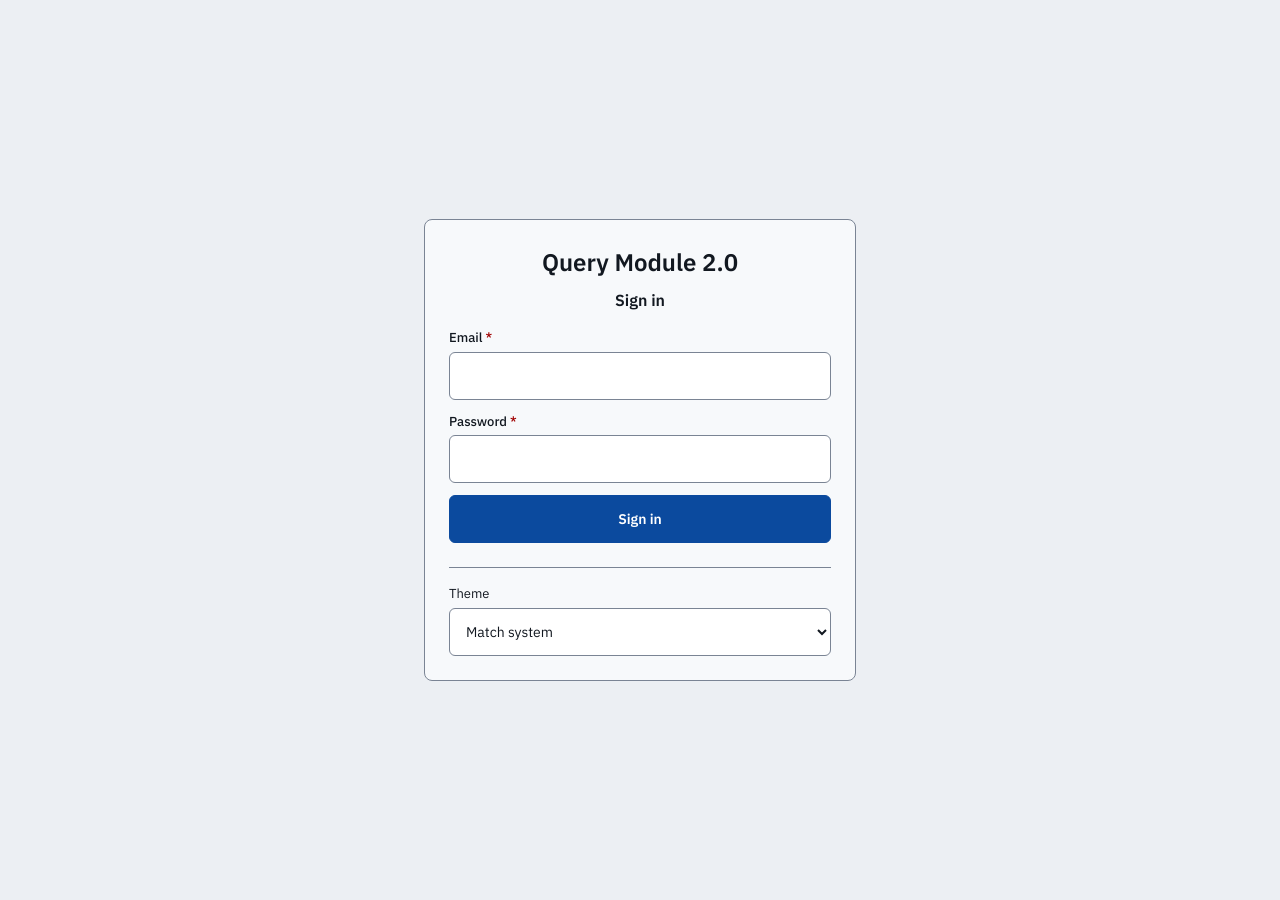
Test: FR-044 AppShell announces one coalesced summary (spec 6.6) › two events in one window give one polite sentence, with no values
In the field labelled "Email *": [640, 376] box [449,352,831,400], type "tester@querymodule.test"
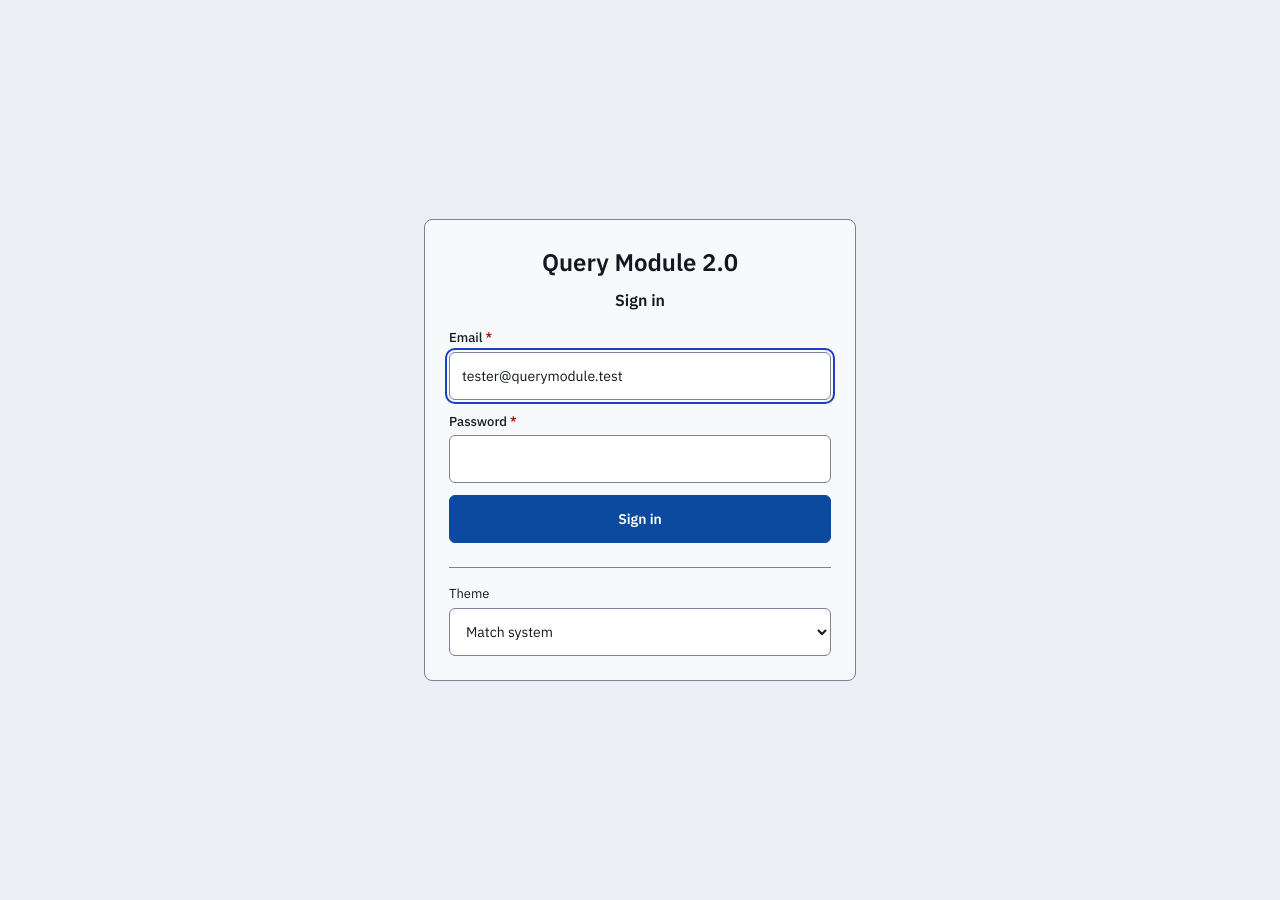
In the password field labelled "Password *": [640, 459] box [449,435,831,483], type "fixture-only-pass"
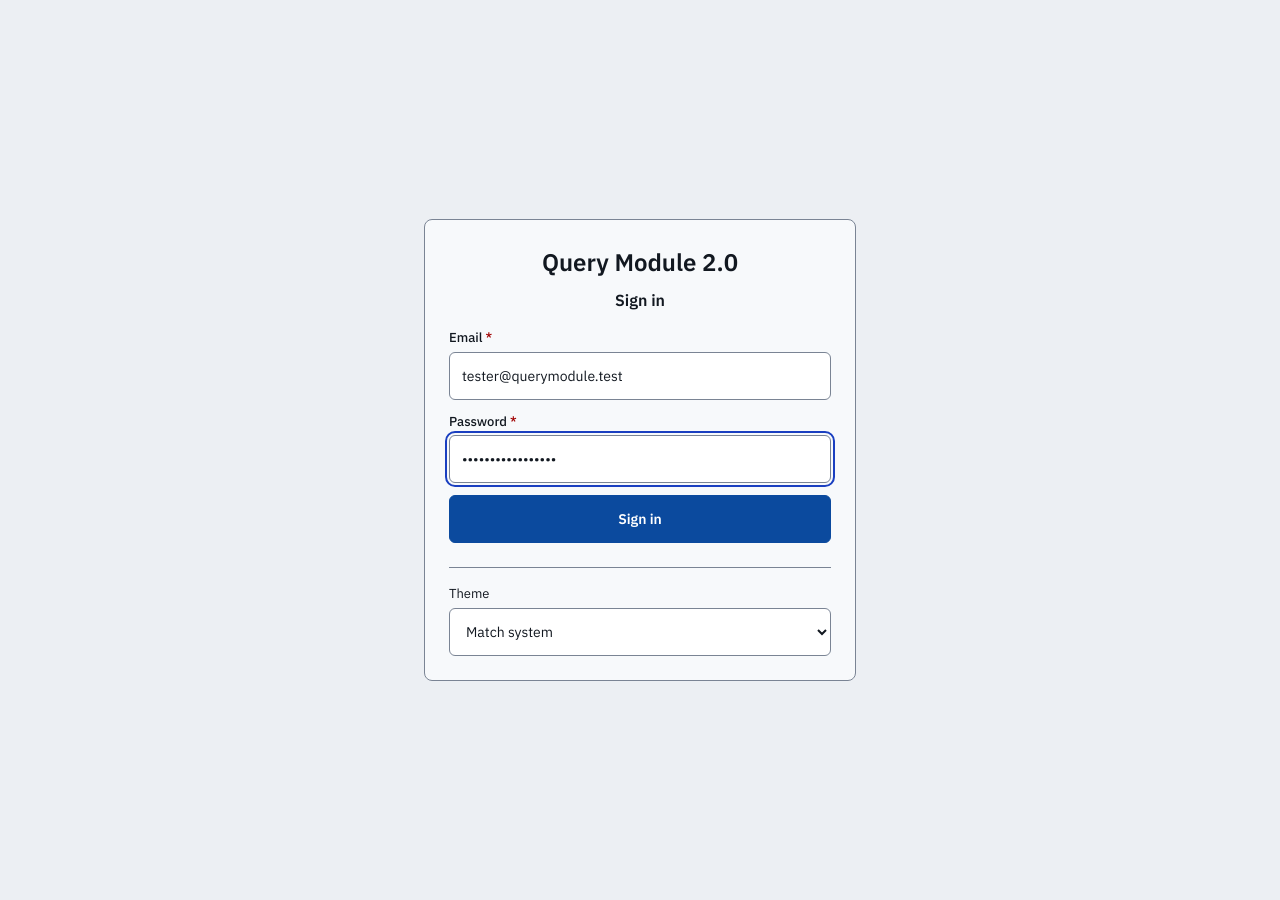
Click the button "Sign in": [640, 519] box [449,495,831,543]
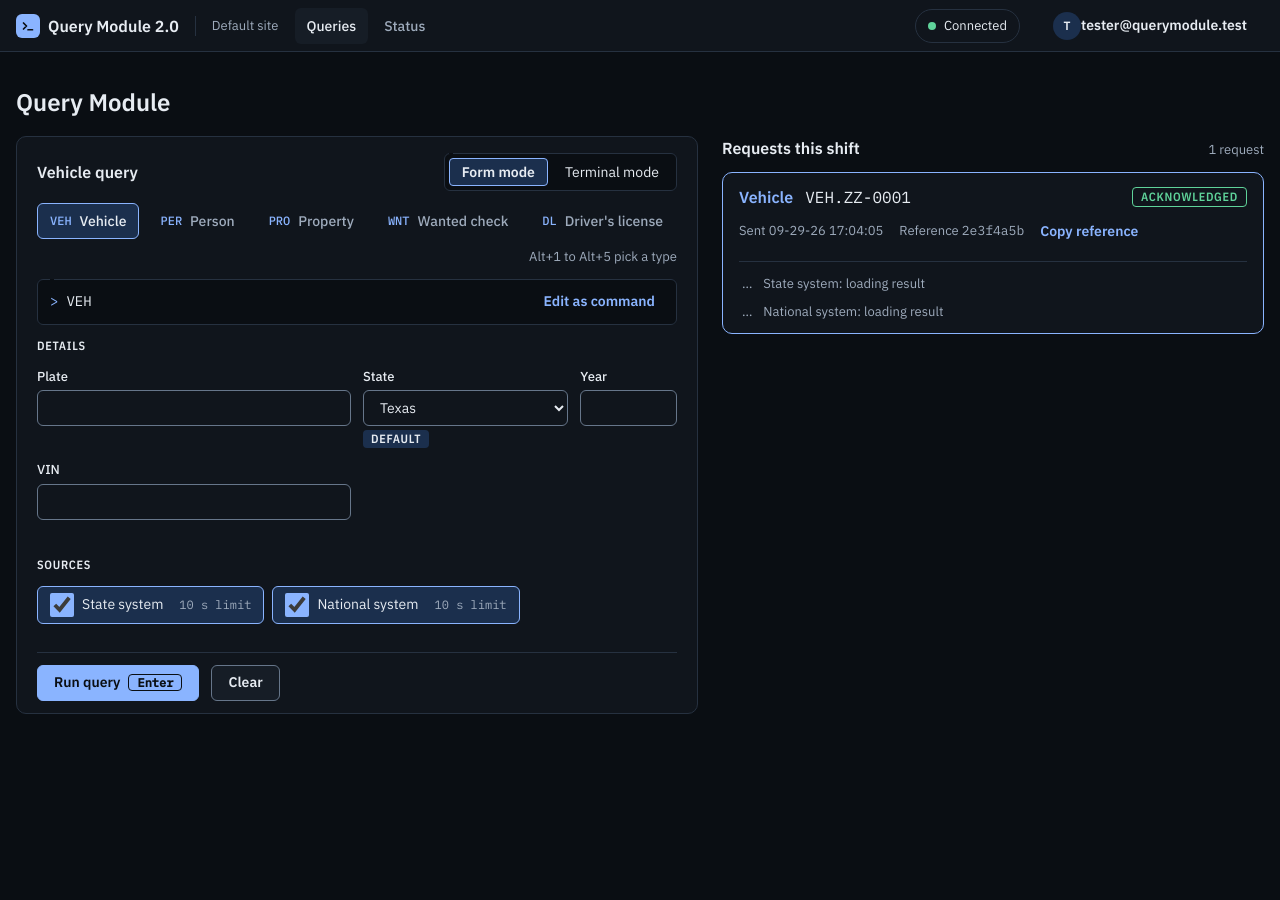
expect the element with test id "announcer-polite" does not show "ZZ-0001": met
expect the heading "Query Module" is shown: met, box [16,86,170,118]
